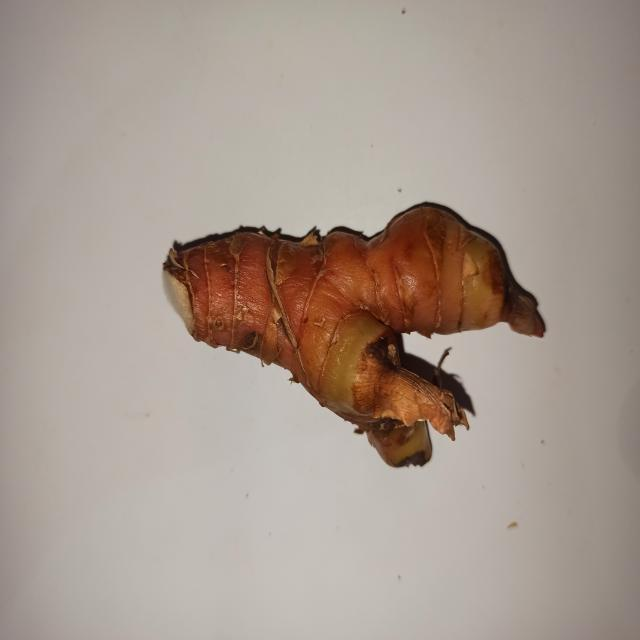ginger: (152, 182, 514, 454)
